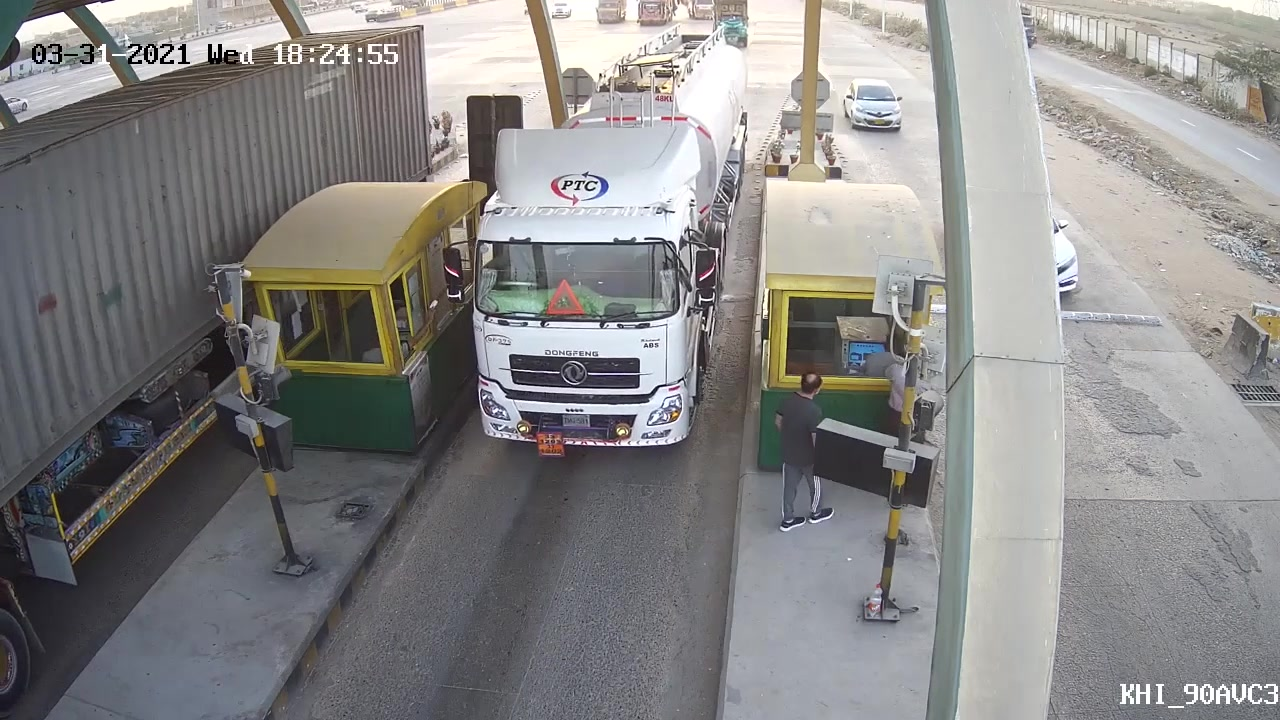F6: (440, 23, 756, 463)
